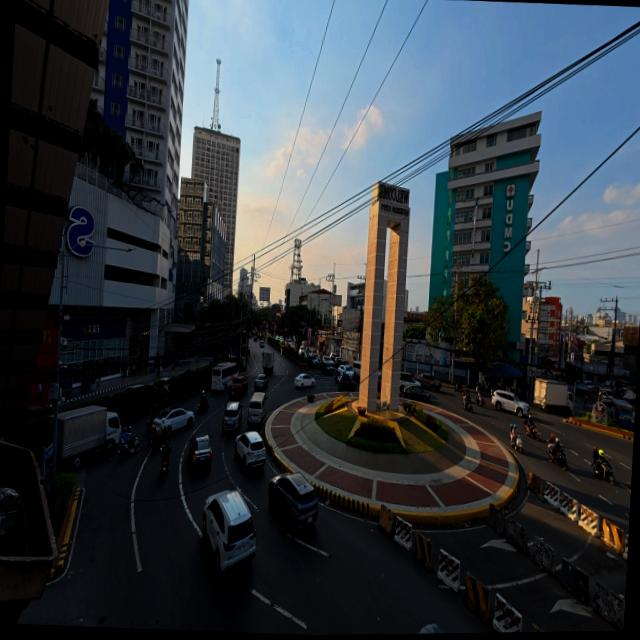bus: (210, 363, 237, 391)
car: (202, 491, 255, 575), (267, 473, 317, 534), (234, 431, 265, 467), (491, 390, 528, 417), (152, 407, 193, 430), (188, 434, 211, 470), (221, 400, 243, 434), (400, 383, 429, 403), (416, 373, 439, 392), (334, 363, 352, 382), (293, 373, 314, 389), (337, 373, 355, 391), (399, 373, 416, 391), (417, 624, 446, 633), (154, 377, 169, 394), (253, 374, 268, 391), (336, 362, 354, 375), (318, 360, 332, 375), (122, 383, 143, 392), (308, 355, 319, 368), (377, 371, 381, 391), (258, 341, 263, 347), (247, 347, 250, 354)
motorcycle: (592, 459, 614, 484), (548, 446, 568, 471), (119, 436, 138, 459), (524, 423, 540, 441), (509, 434, 521, 453), (160, 458, 168, 479), (463, 398, 474, 413), (150, 435, 161, 449), (160, 460, 168, 479), (475, 392, 485, 407), (196, 401, 207, 413), (145, 416, 153, 431), (454, 380, 460, 391)
trucks: (56, 406, 120, 469), (533, 379, 572, 413), (227, 376, 247, 398), (261, 350, 276, 376)
vans: (246, 392, 266, 426), (351, 360, 362, 382)
